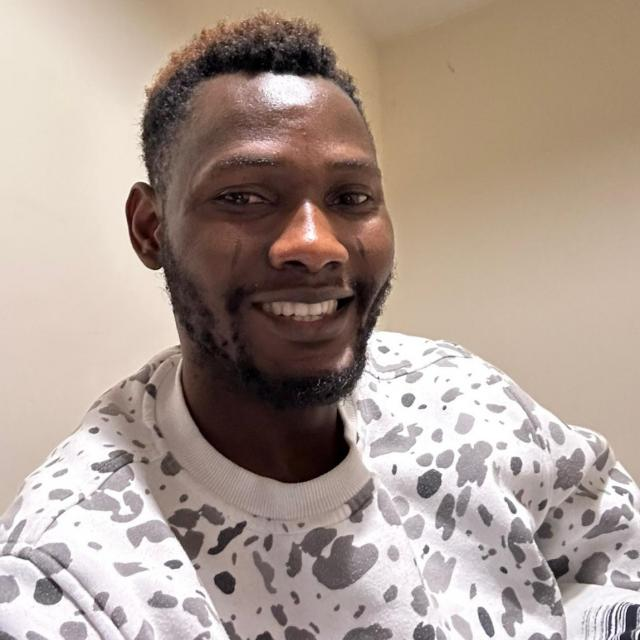happy: (121, 24, 397, 408)
